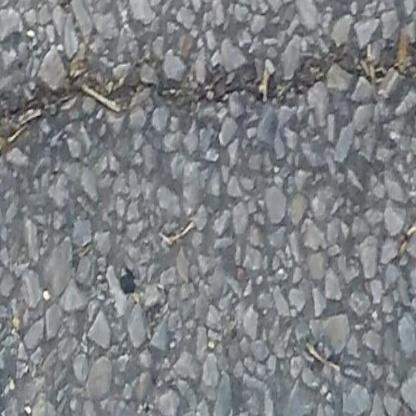Cracks: (0, 44, 416, 152)
